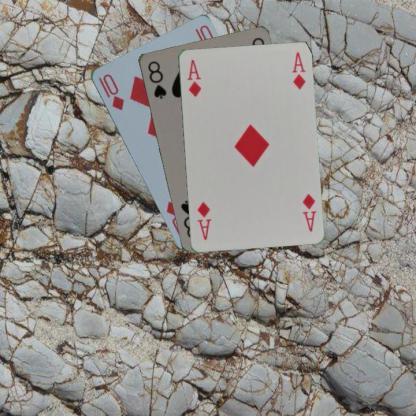10d: (96, 70, 126, 111)
8s: (144, 58, 168, 100)
Ad: (184, 57, 202, 98), (299, 191, 317, 232)
